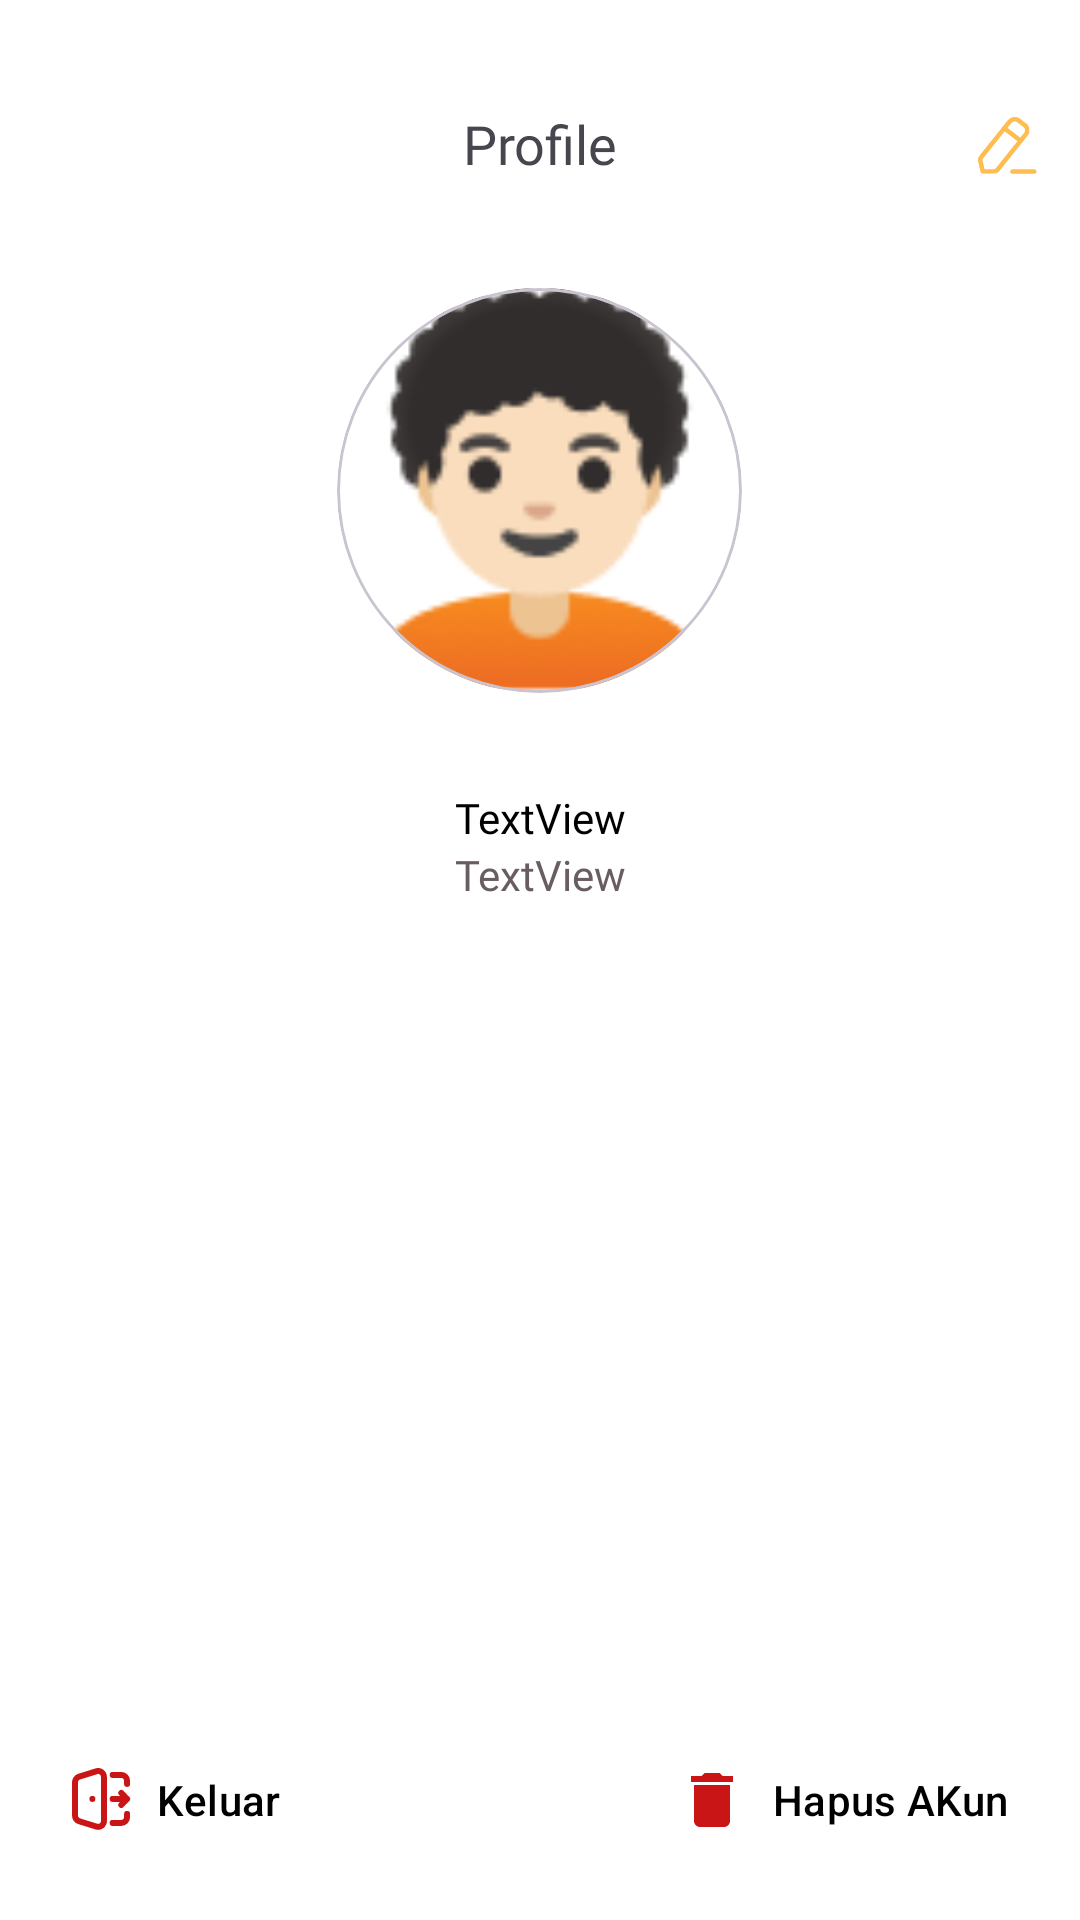

Where to tap for icons on this 1080x1920 app screen, as point (x, y):
edit: point (1007, 145)
